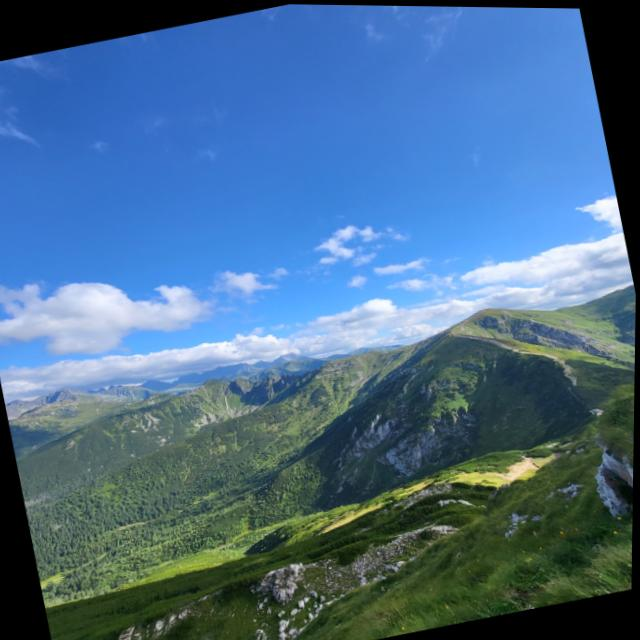Kasprowy Wierch: (15, 372, 80, 431)
Kopa Kondracka: (395, 246, 576, 374)
Kozi Wierch: (0, 372, 38, 429)
Krivan: (245, 319, 333, 382)
Swinica: (22, 351, 107, 424)
